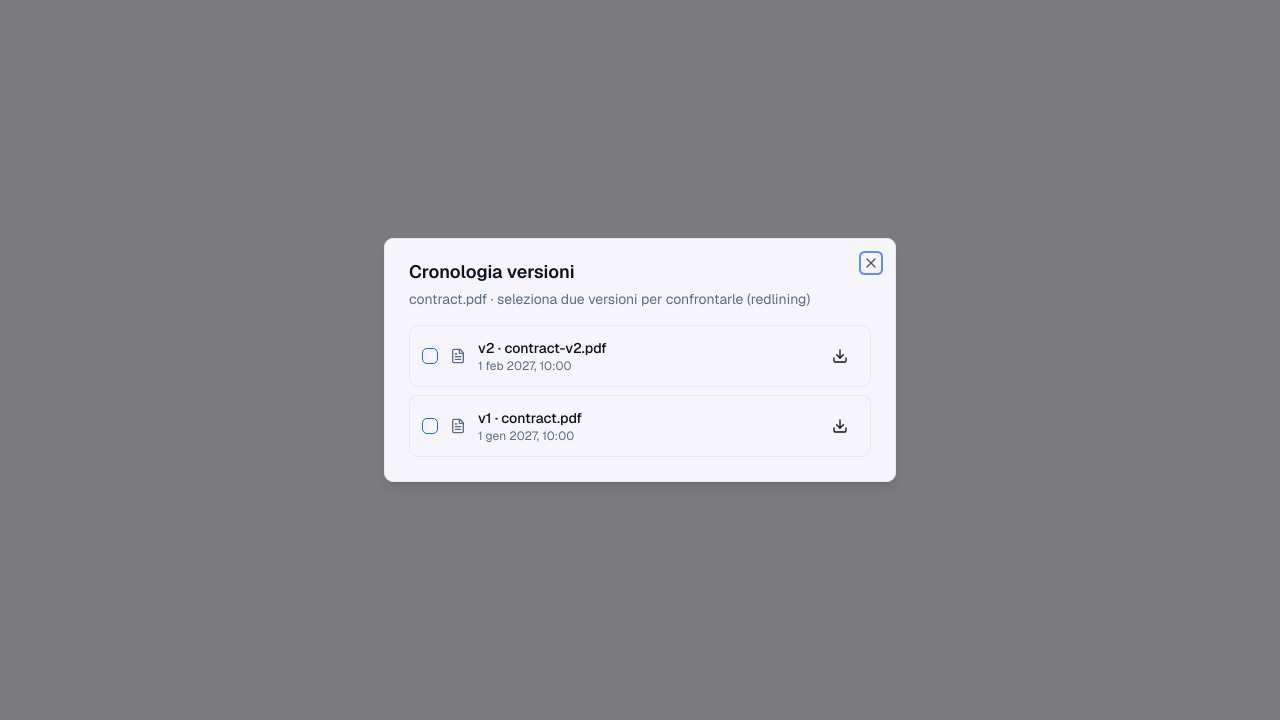
Scenario: DocumentVersionsDialog › fetches and renders the diff once two versions are selected
The width and height of the screenshot is (1280, 720).
Expected: the text "v2 · contract-v2.pdf" is shown, [478,339,607,357]
Click the checkbox named "Seleziona versione 2 per il confronto": (430, 356) [422,348,438,364]
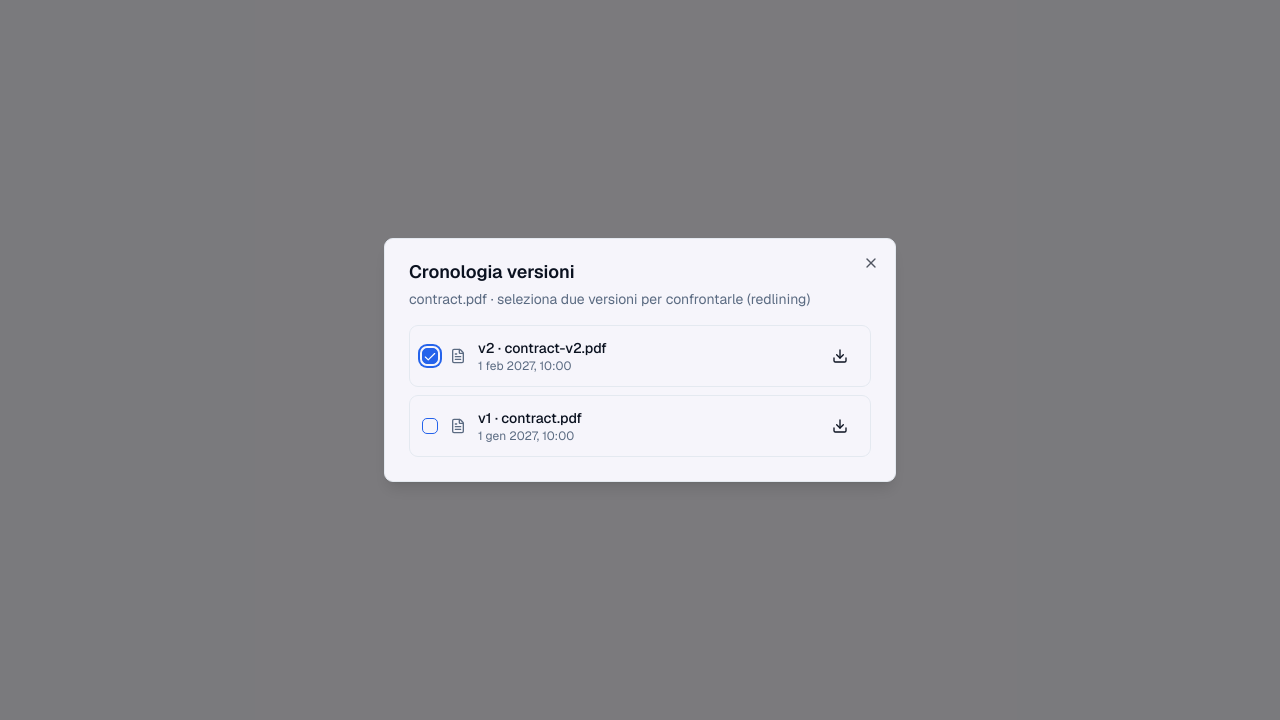
Click the checkbox named "Seleziona versione 1 per il confronto": (430, 426) [422,418,438,434]
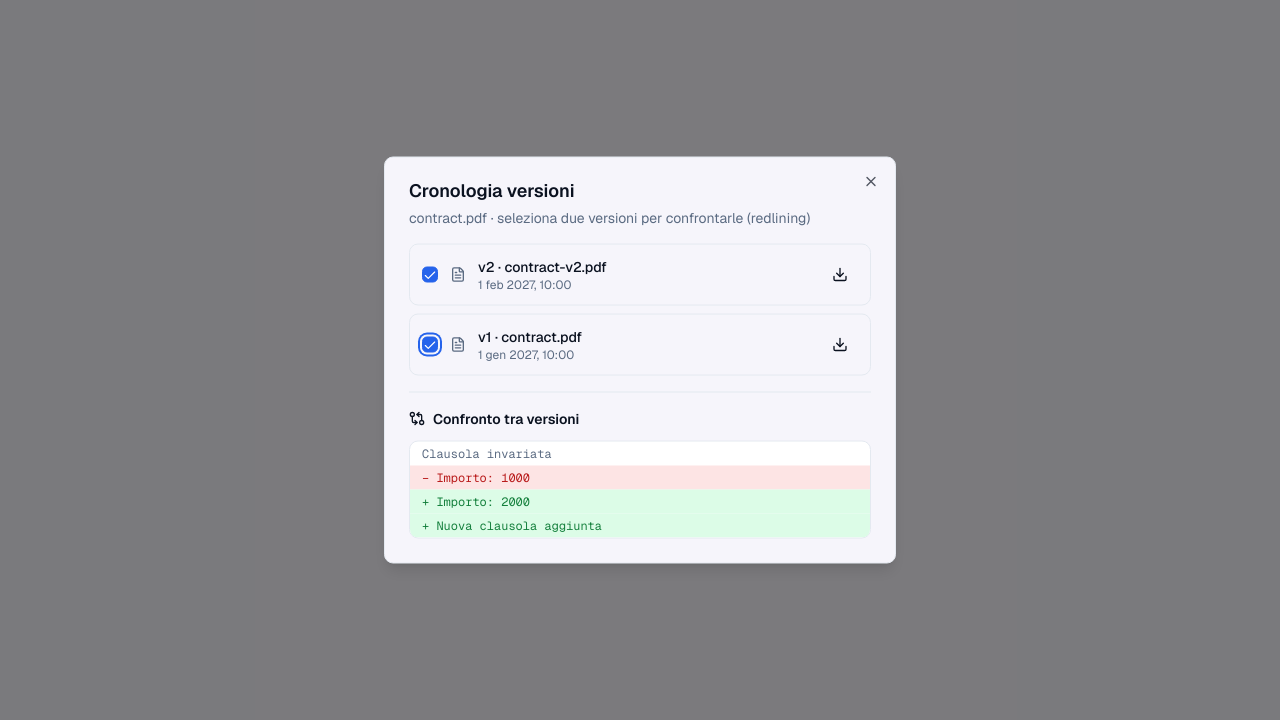
Expected: the heading "Confronto tra versioni" is shown, [409,410,579,428]
Expected: the text "Clausola invariata" is shown, [422,446,552,462]
Expected: the text "− Importo: 1000" is shown, [410,466,870,490]
